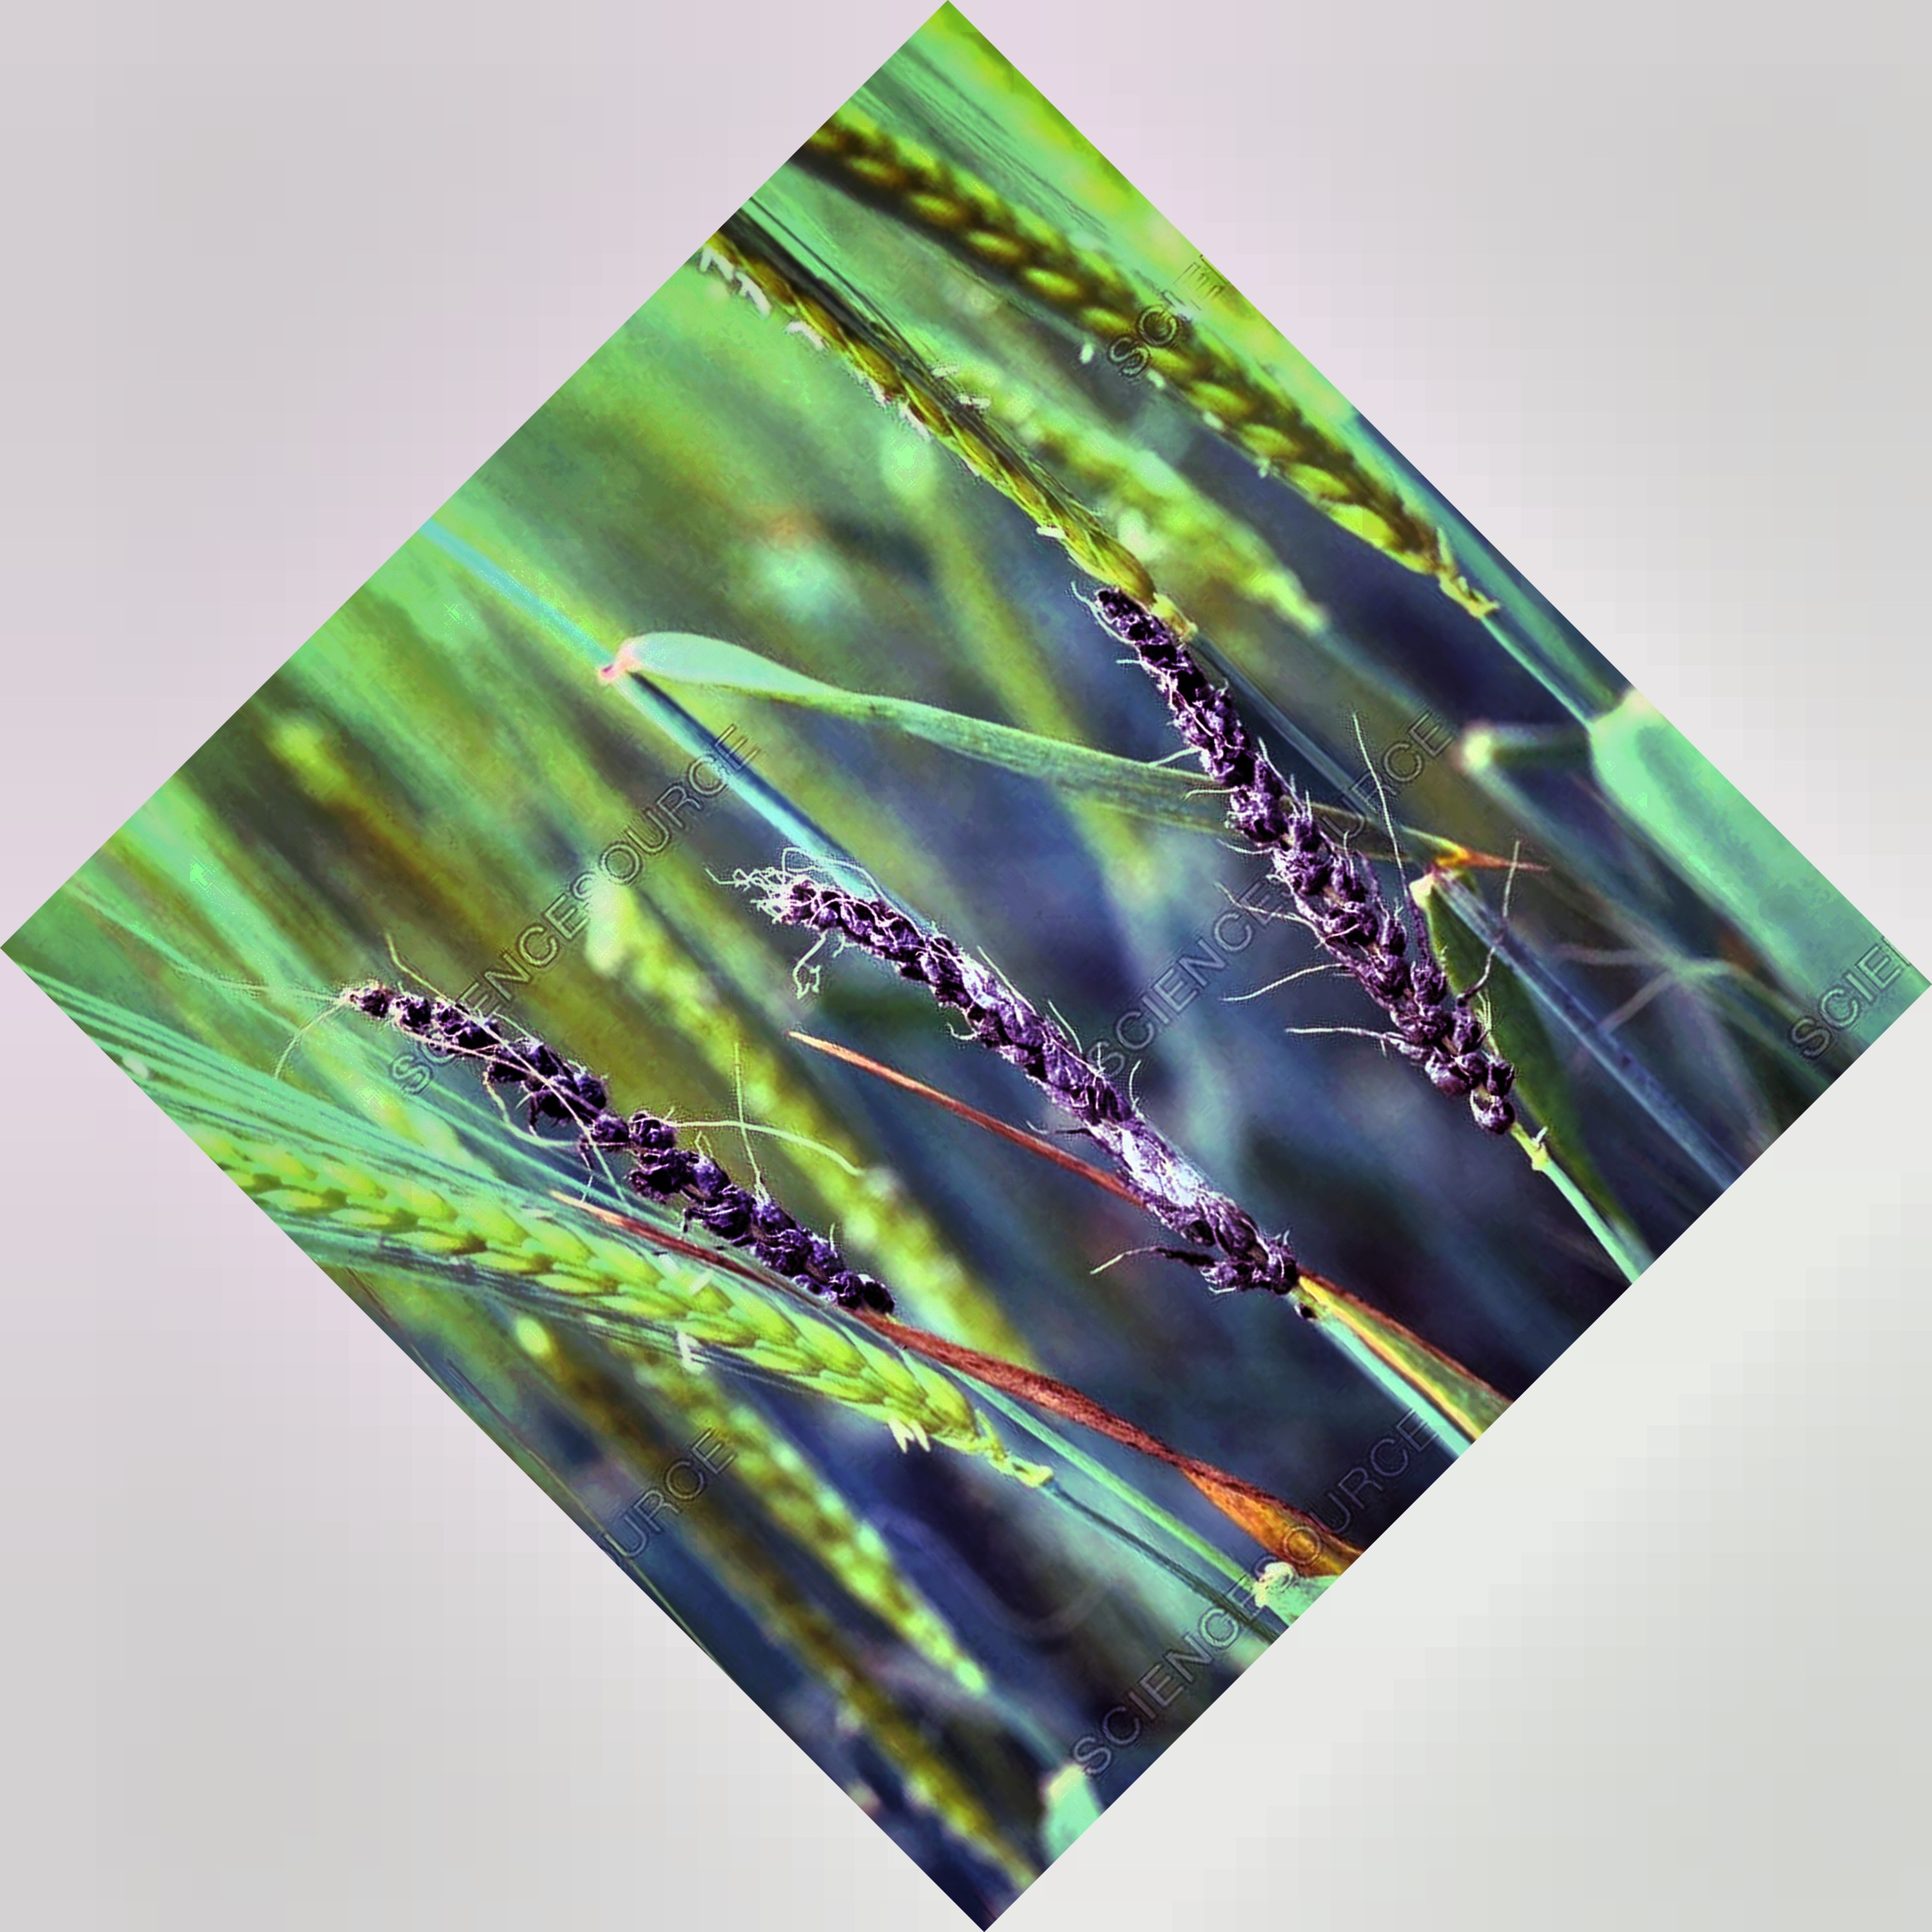Wheat Loose Smut: (1095, 593, 1509, 1088), (345, 961, 881, 1297)
